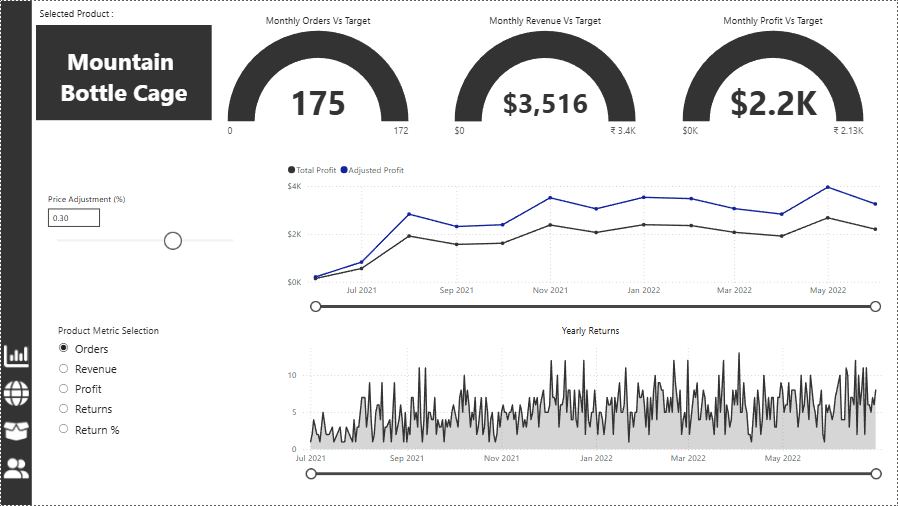

The dashboard page shown, as its layout file describes it:
{"tool":"powerbi","page":{"name":"Product Detail","canvas":[1280,720],"ordinal":2},"visuals":[{"type":"shape","box":[0,0,44.3,720],"z":0},{"type":"actionButton","box":[0,485,61.2,43.8],"z":0,"group":"g1"},{"type":"gauge","title":"Monthly Orders Vs Target","fields":{"Y":["Measure Table.Total Orders"],"MaxValue":["Measure Table.Order Traget"]},"box":[318.6,19,268.6,187.1],"z":1000},{"type":"actionButton","box":[0,538.3,61.2,43.8],"z":1000,"group":"g1"},{"type":"gauge","title":"Monthly Profit Vs Target","fields":{"Y":["Measure Table.Total Profit"],"MaxValue":["Measure Table.Profit Traget"]},"box":[968.6,19,268.6,187.1],"z":2000},{"type":"actionButton","box":[0,591.7,61.2,43.8],"z":2000,"group":"g1"},{"type":"gauge","title":"Monthly Revenue Vs Target","fields":{"Y":["Measure Table.Total Revenue"],"MaxValue":["Measure Table.Revenue Target"]},"box":[643.5,18.6,268.8,187.5],"z":3000},{"type":"actionButton","box":[0,645,61.2,43.8],"z":3000,"group":"g1"},{"type":"lineChart","title":"Yearly Profit","fields":{"Category":["Calendar Lookup.Date Hierarchy.Start of Year","Calendar Lookup.Date Hierarchy.Start of Month","Calendar Lookup.Date Hierarchy.Start of Week","Calendar Lookup.Date Hierarchy.Date"],"Y":["Measure Table.Total Profit","Measure Table.Adjusted Profit"]},"box":[404.3,221.4,875.7,225.7],"z":4000},{"type":"areaChart","title":"Yearly Returns","fields":{"Y":["Measure Table.Total Orders"],"Category":["Calendar Lookup.Date Hierarchy.Start of Year","Calendar Lookup.Date Hierarchy.Start of Month","Calendar Lookup.Date Hierarchy.Start of Week","Calendar Lookup.Date Hierarchy.Date"]},"box":[403.8,461.2,876.2,225],"z":5000},{"type":"card","fields":{"Values":["Min(Product Lookup.ProductName)"]},"box":[50,34.5,250.9,136.4],"z":6000},{"type":"textbox","box":[50,4.3,171.4,30],"z":7000},{"type":"group","id":"g1","title":"Navigation Buttons","box":[0,485,61.2,203.8],"z":8000},{"type":"slicer","fields":{"Values":["Price Adjustment (%).Price Adjustment (%)"]},"box":[53.8,268.8,300,128.8],"z":9000},{"type":"slicer","fields":{"Values":["Product Metric Selection.Product Metric Selection"]},"box":[68.8,457.5,303.8,206.2],"z":10000}]}

Visuals, with their boxes on the page's 1280x720 design canvas (x1, y1, x2, y2). These are canvas units, not pixel positions in the 898x506 screenshot, which may show the page scaled, cropped or inside an application window:
shape: 0 0 44 720
actionButton: 0 485 61 529
"Monthly Orders Vs Target" gauge: 319 19 587 206
actionButton: 0 538 61 582
"Monthly Profit Vs Target" gauge: 969 19 1237 206
actionButton: 0 592 61 636
"Monthly Revenue Vs Target" gauge: 644 19 912 206
actionButton: 0 645 61 689
"Yearly Profit" lineChart: 404 221 1280 447
"Yearly Returns" areaChart: 404 461 1280 686
card - Min(Product Lookup.ProductName): 50 34 301 171
textbox: 50 4 221 34
"Navigation Buttons" group: 0 485 61 689
slicer - Price Adjustment (%).Price Adjustment (%): 54 269 354 398
slicer - Product Metric Selection.Product Metric Selection: 69 458 373 664
